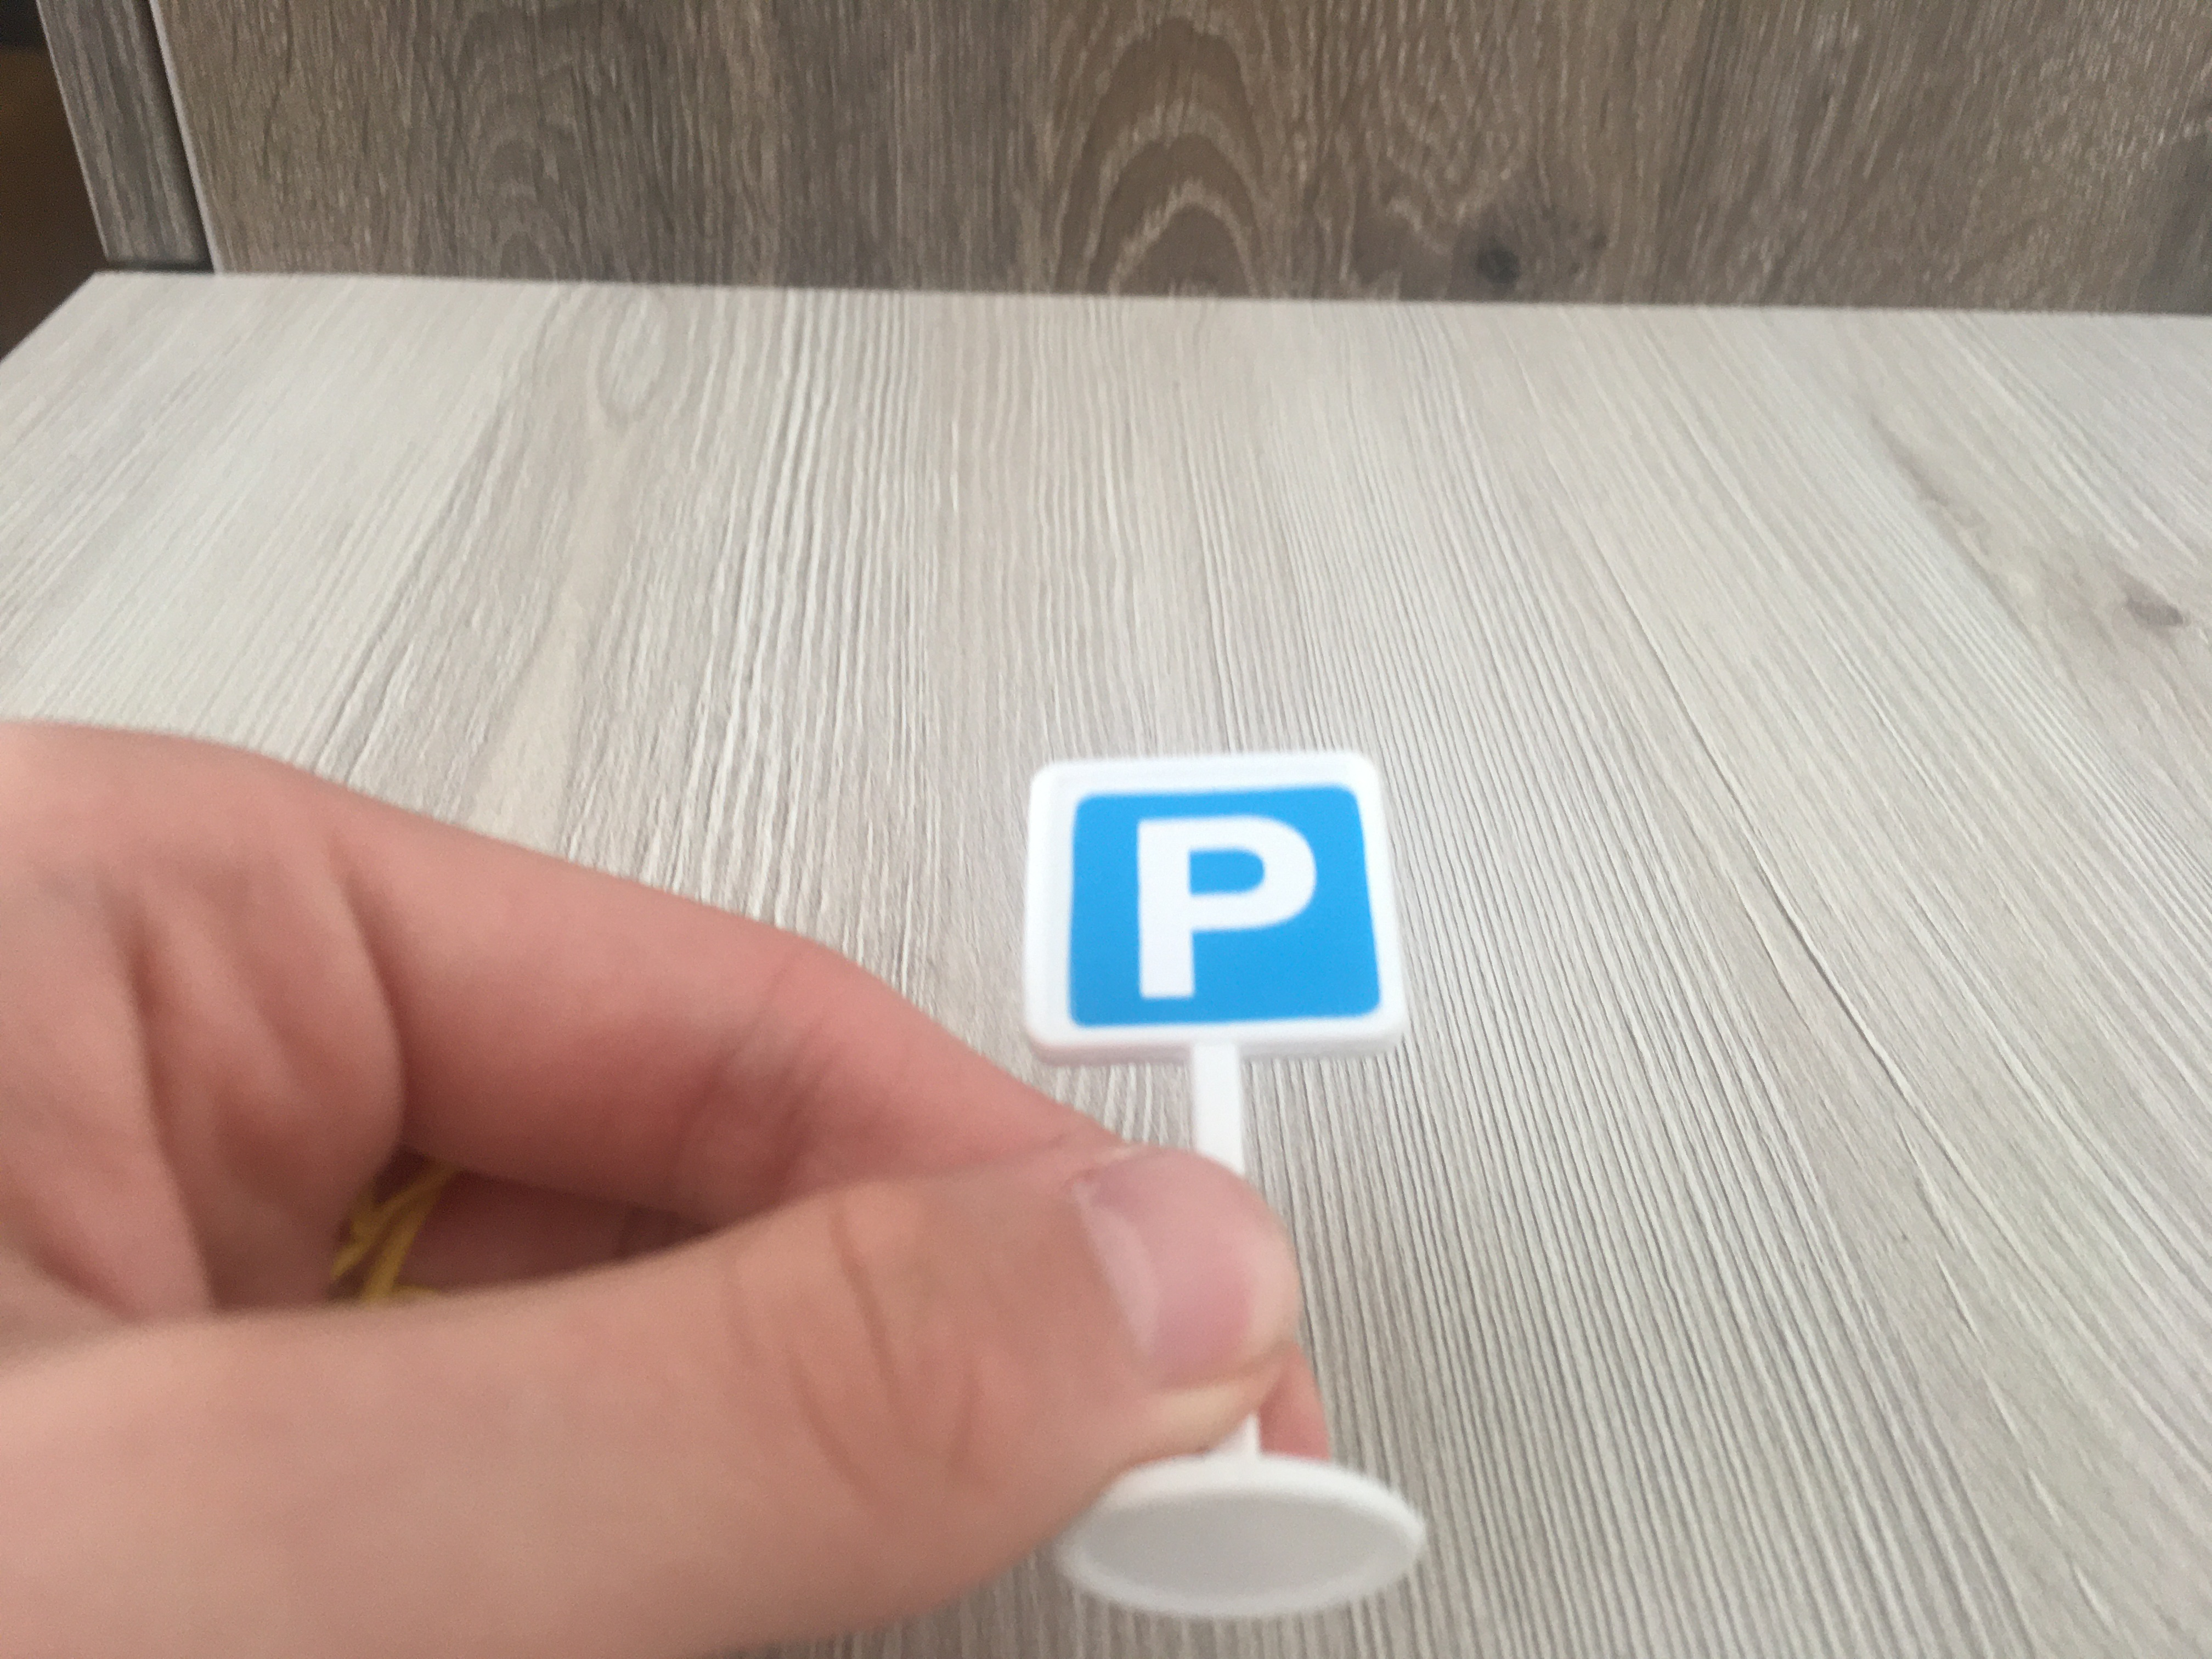parking: (1010, 762, 1407, 1047)
